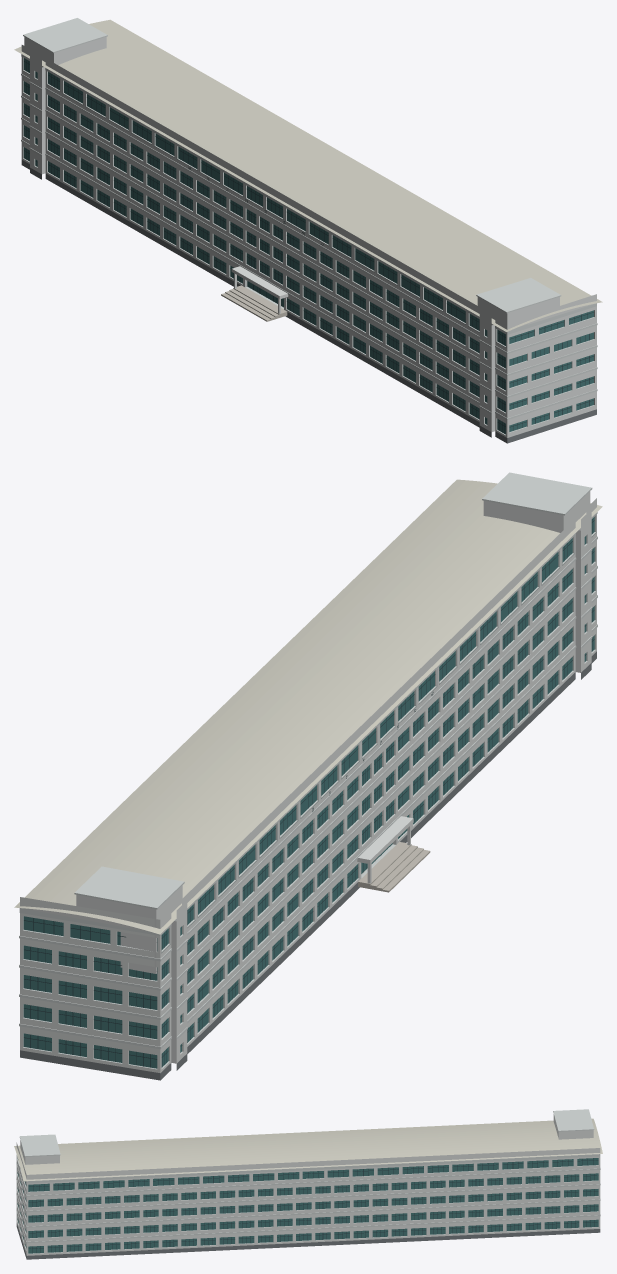
3 views of the same model, one above another, from view 1: azimuth 30°, elevation 25°; view 2: azimuth 150°, elevation 25°; view 3: azimuth 270°, elevation 25° (orthographic). The views are drawn at different scales.
Parts seen in each view (by area): view 1: wing2__wall-plaster, wing2__roof-metal, wing2__glass, wing2__trim-concrete, wing2__frame, wing2__base-stone, wing2__entrance-steps, wing2__upper-panel-frame; view 2: wing2__roof-metal, wing2__wall-plaster, wing2__glass, wing2__trim-concrete, wing2__frame, wing2__base-stone, wing2__entrance-steps, wing2__upper-panel-frame; view 3: wing2__wall-plaster, wing2__glass, wing2__roof-metal, wing2__trim-concrete, wing2__frame, wing2__base-stone.
Part boxes in pixels (box(x1,y1,x2,y2)): wing2__wall-plaster: box(21, 37, 596, 437); wing2__roof-metal: box(14, 19, 602, 331); wing2__glass: box(23, 58, 593, 434); wing2__trim-concrete: box(21, 18, 597, 435); wing2__frame: box(24, 59, 593, 433); wing2__base-stone: box(21, 160, 596, 443); wing2__entrance-steps: box(221, 285, 287, 321); wing2__upper-panel-frame: box(22, 57, 506, 347); wing2__roof-metal: box(14, 479, 602, 934); wing2__wall-plaster: box(20, 491, 596, 1073); wing2__glass: box(23, 517, 594, 1068); wing2__trim-concrete: box(19, 472, 597, 1069); wing2__frame: box(23, 519, 594, 1067); wing2__base-stone: box(20, 651, 596, 1080); wing2__entrance-steps: box(358, 842, 430, 892); wing2__upper-panel-frame: box(161, 515, 596, 953); wing2__wall-plaster: box(16, 1114, 600, 1255); wing2__glass: box(17, 1158, 598, 1253); wing2__roof-metal: box(14, 1118, 602, 1181); wing2__trim-concrete: box(16, 1109, 600, 1253); wing2__frame: box(28, 1158, 598, 1253); wing2__base-stone: box(16, 1223, 600, 1259).
Bounding box in the file's own units: 31.35 × 21.18 × 124.
